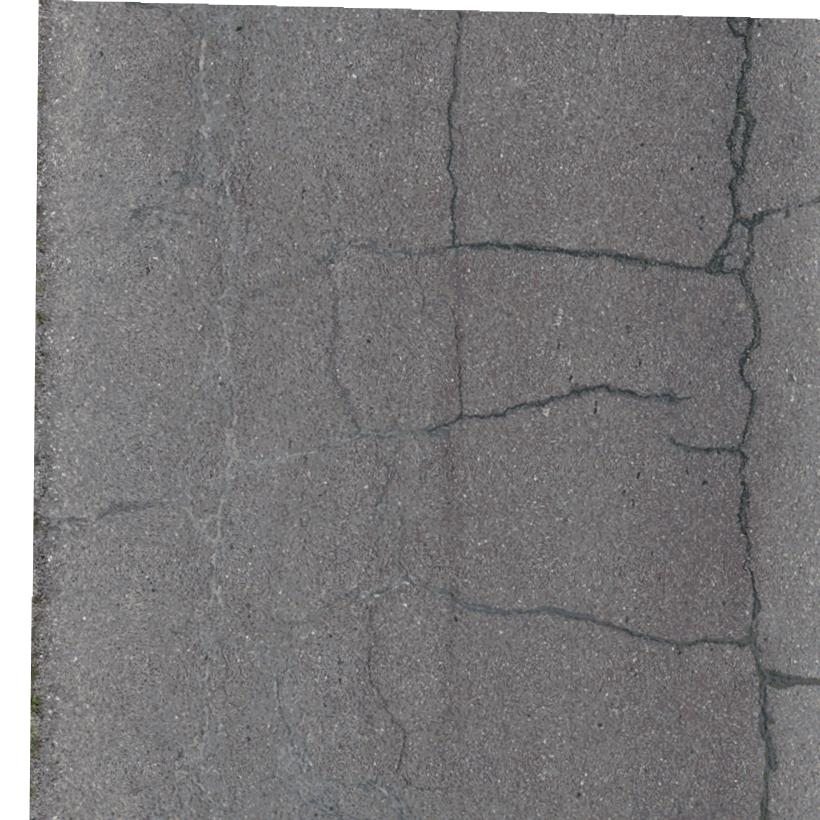GRIETA: (738, 227, 776, 819), (437, 588, 749, 648), (706, 18, 756, 275), (421, 243, 705, 271), (464, 384, 691, 418), (326, 290, 361, 434), (368, 647, 407, 771), (427, 308, 463, 433), (445, 12, 463, 243), (36, 500, 162, 527), (276, 675, 311, 771), (739, 195, 819, 228), (669, 438, 737, 453), (726, 115, 742, 172), (767, 671, 819, 686)
PIEL DE COCODRILO: (169, 31, 248, 216), (154, 698, 243, 802), (176, 451, 247, 545)
